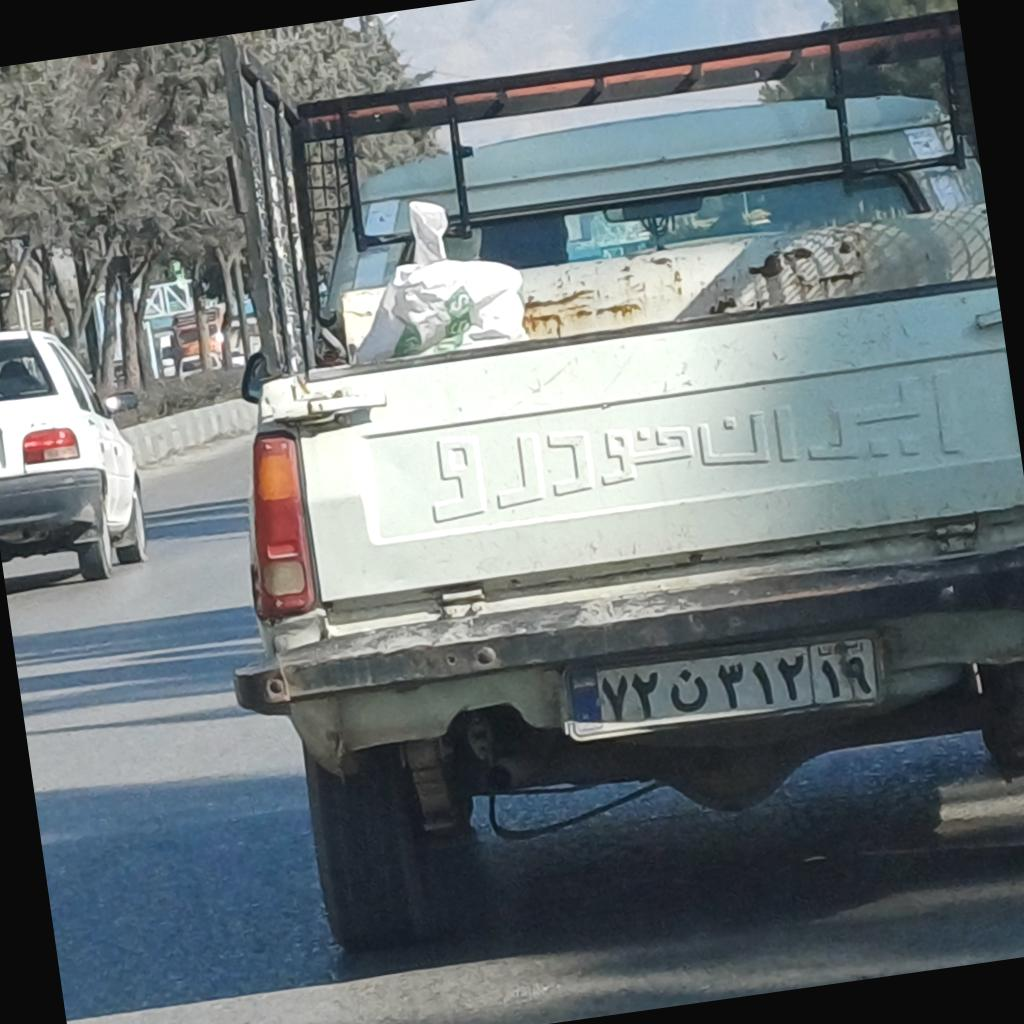Plates: (560, 624, 880, 745)
